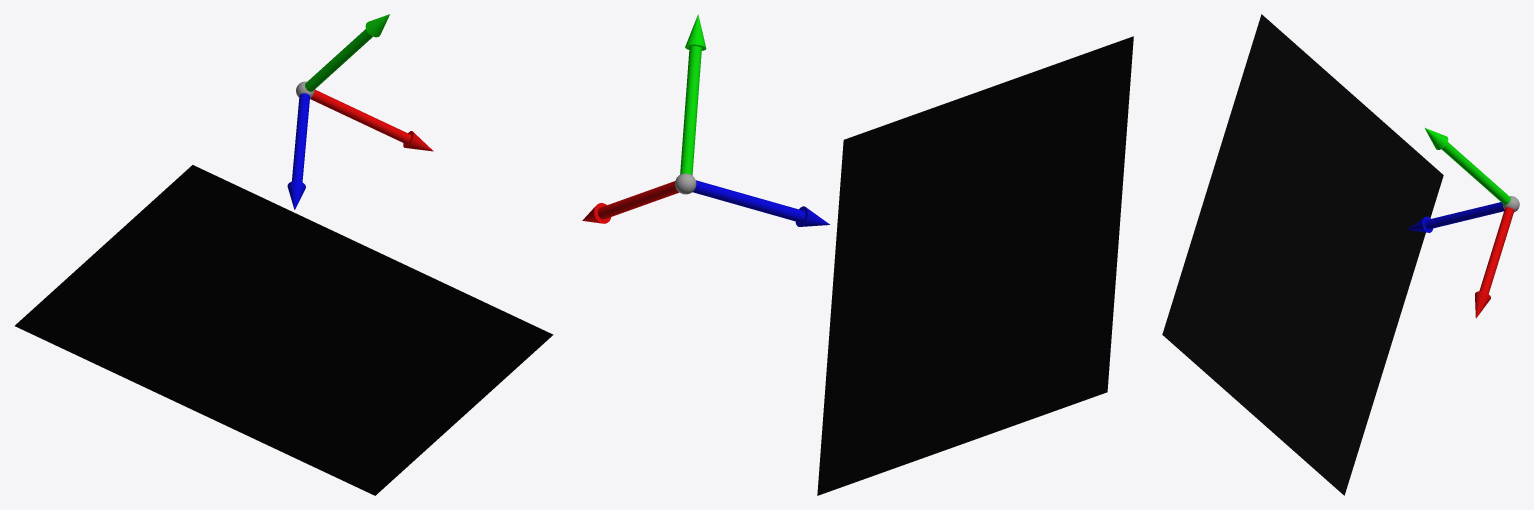
3 views of the same model, side by side, from view 1: azimuth 30°, elevation 25°; view 2: azimuth 150°, elevation 25°; view 3: azimuth 270°, elevation 25° (orthographic). The views are drawn at different scales.
Bounding box in the file's own units: 0.4081 × 0.3881 × 0.3187.
